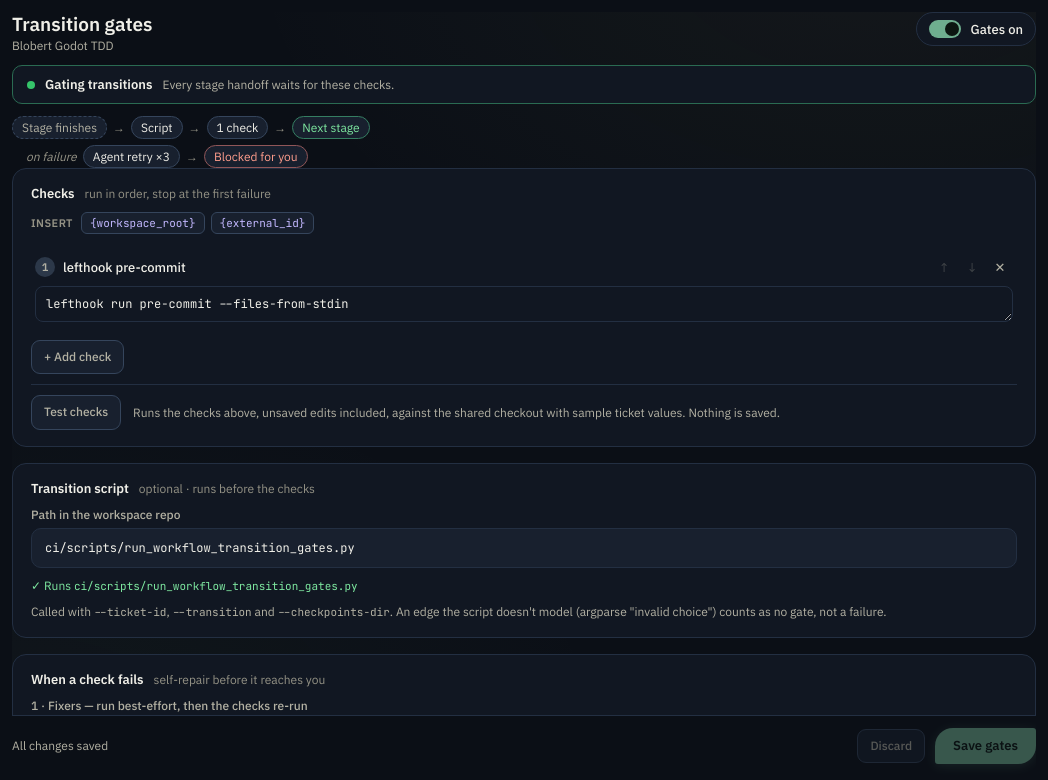
Test: WorkspaceGatesPanel › refuses to save a check with an unclosed quote
Replace the text in the text box showing "lefthook run pre-commit --files-from-stdin" with "echo \"oops" at (524, 304), box [35,286,1013,322]
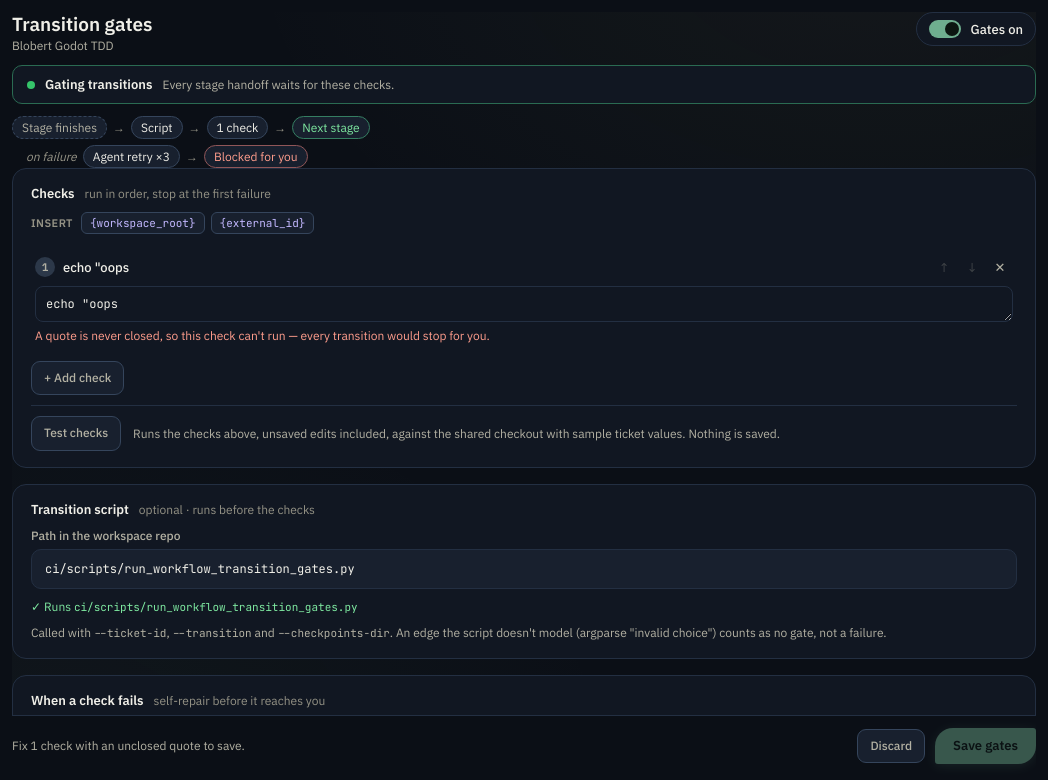
Check: the button "Save gates" is disabled, box [935,728,1036,764]
Check: the message shows "never closed", box [35,328,204,343]
